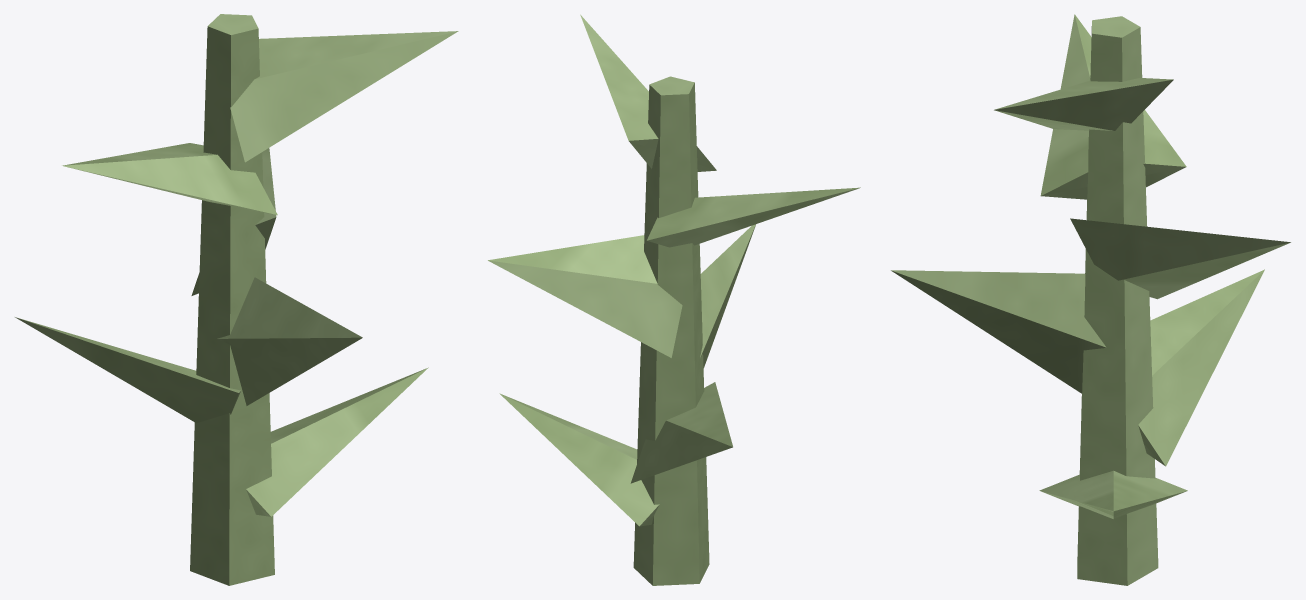
File: sm_crop_tomato_3.glb
The picture shows the model from 3 angles, left to right: view 1: azimuth 30°, elevation 25°; view 2: azimuth 150°, elevation 25°; view 3: azimuth 270°, elevation 25°; orthographic projection. The views are drawn at different scales.
Visible parts, largest first — view 1: sm_crop_tomato_3; view 2: sm_crop_tomato_3; view 3: sm_crop_tomato_3.
Part boxes in pixels (box(x1,y1,x2,y2)): sm_crop_tomato_3: box(15, 14, 458, 585); sm_crop_tomato_3: box(488, 14, 860, 585); sm_crop_tomato_3: box(891, 14, 1290, 585).
Bounding box in the file's own units: 0.2287 × 0.3067 × 0.2062.
1 material, 1 textured.
